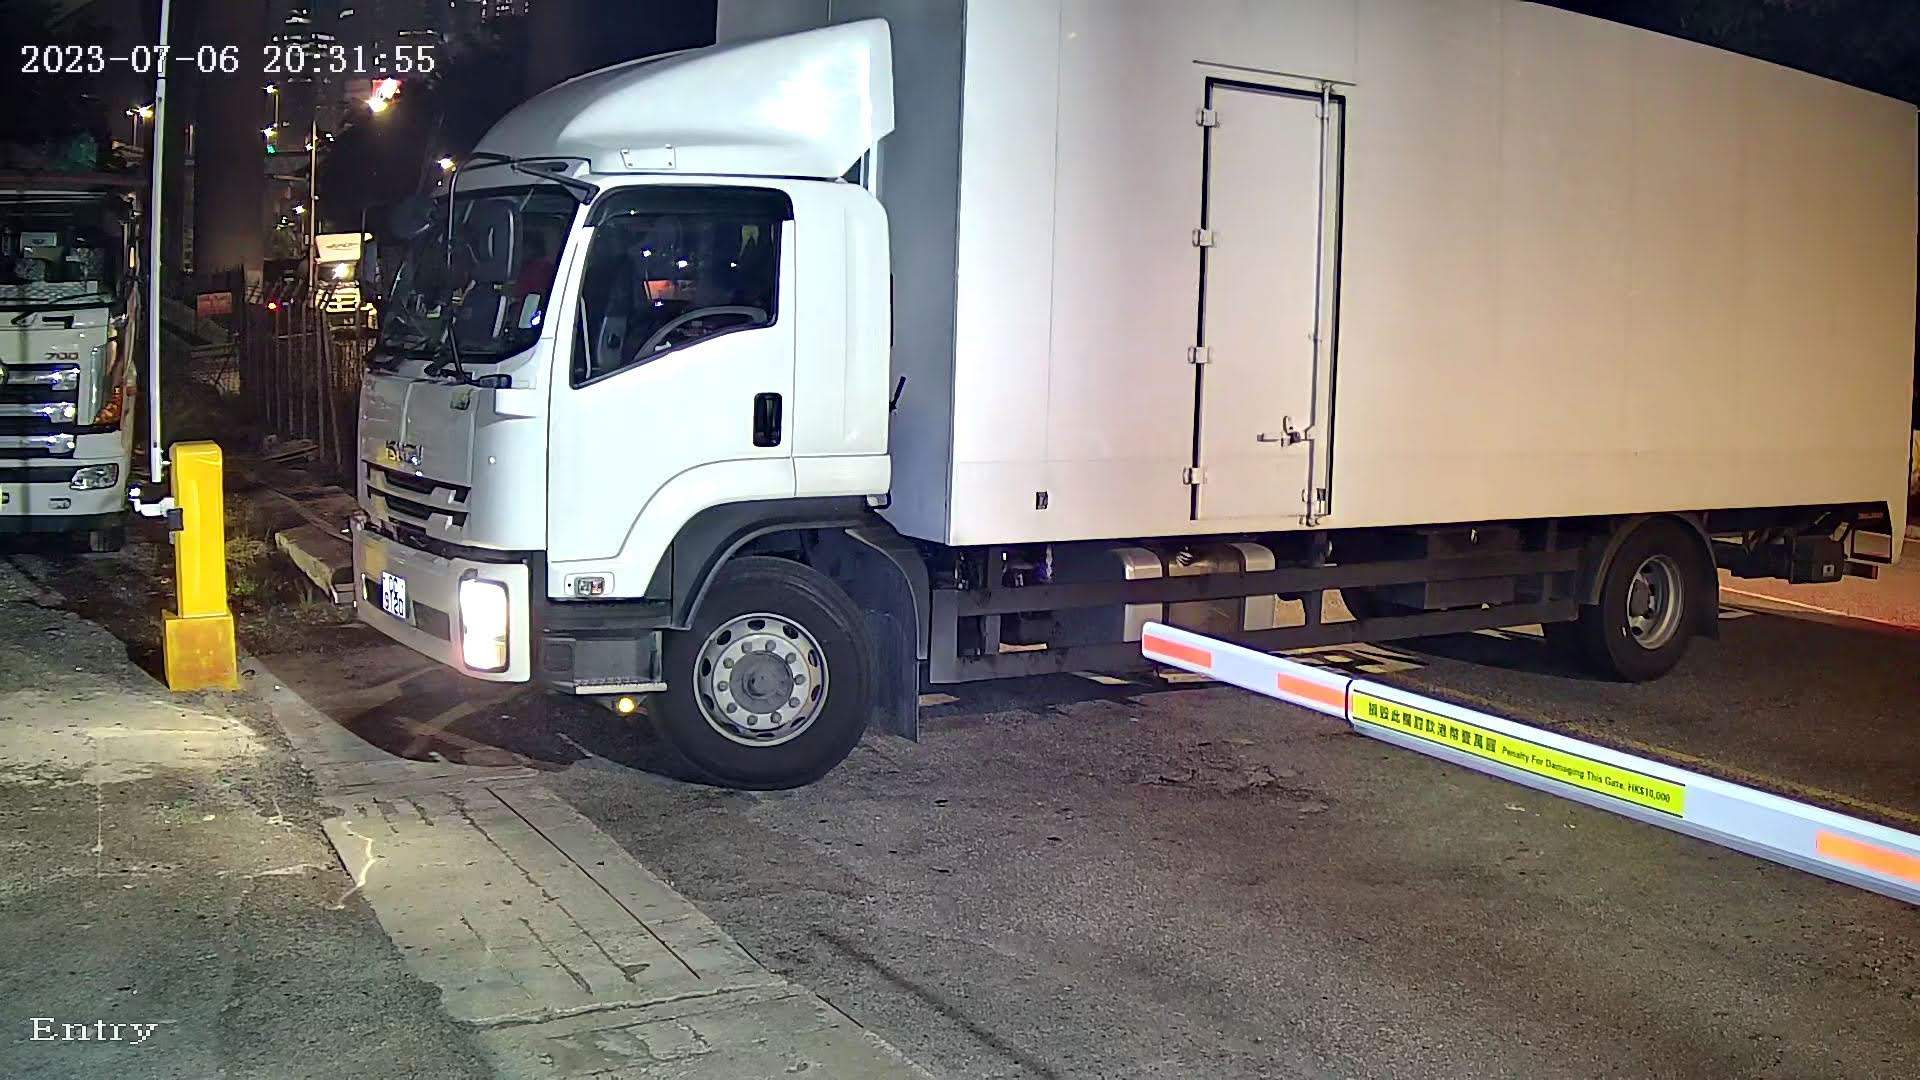truck_large: (287, 1, 1920, 815)
